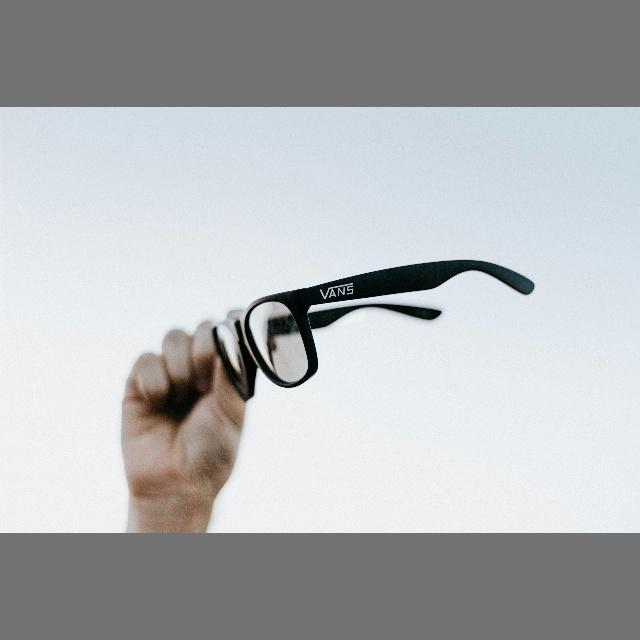Sunglasses: (215, 268, 495, 399)
